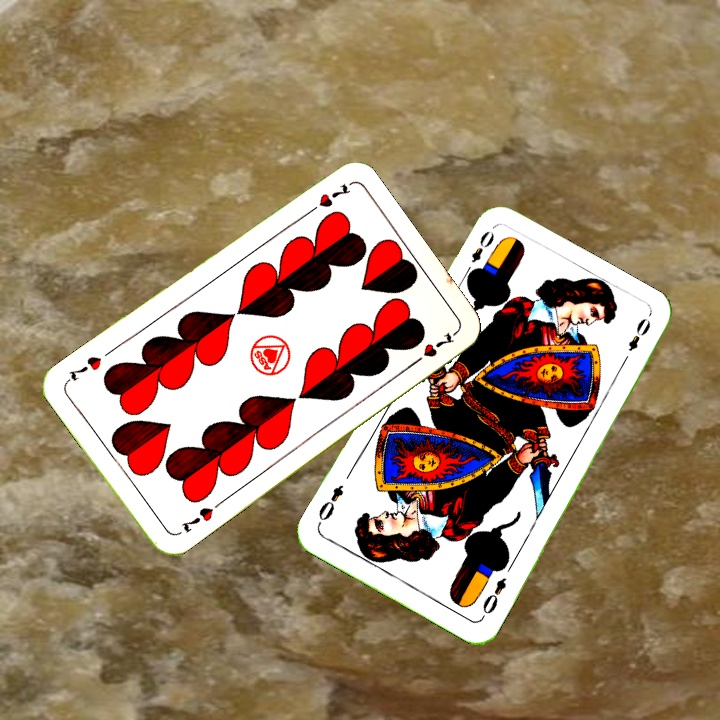EO: (460, 226, 498, 279), (477, 573, 509, 621)
H7: (301, 179, 353, 219), (177, 503, 217, 535)
